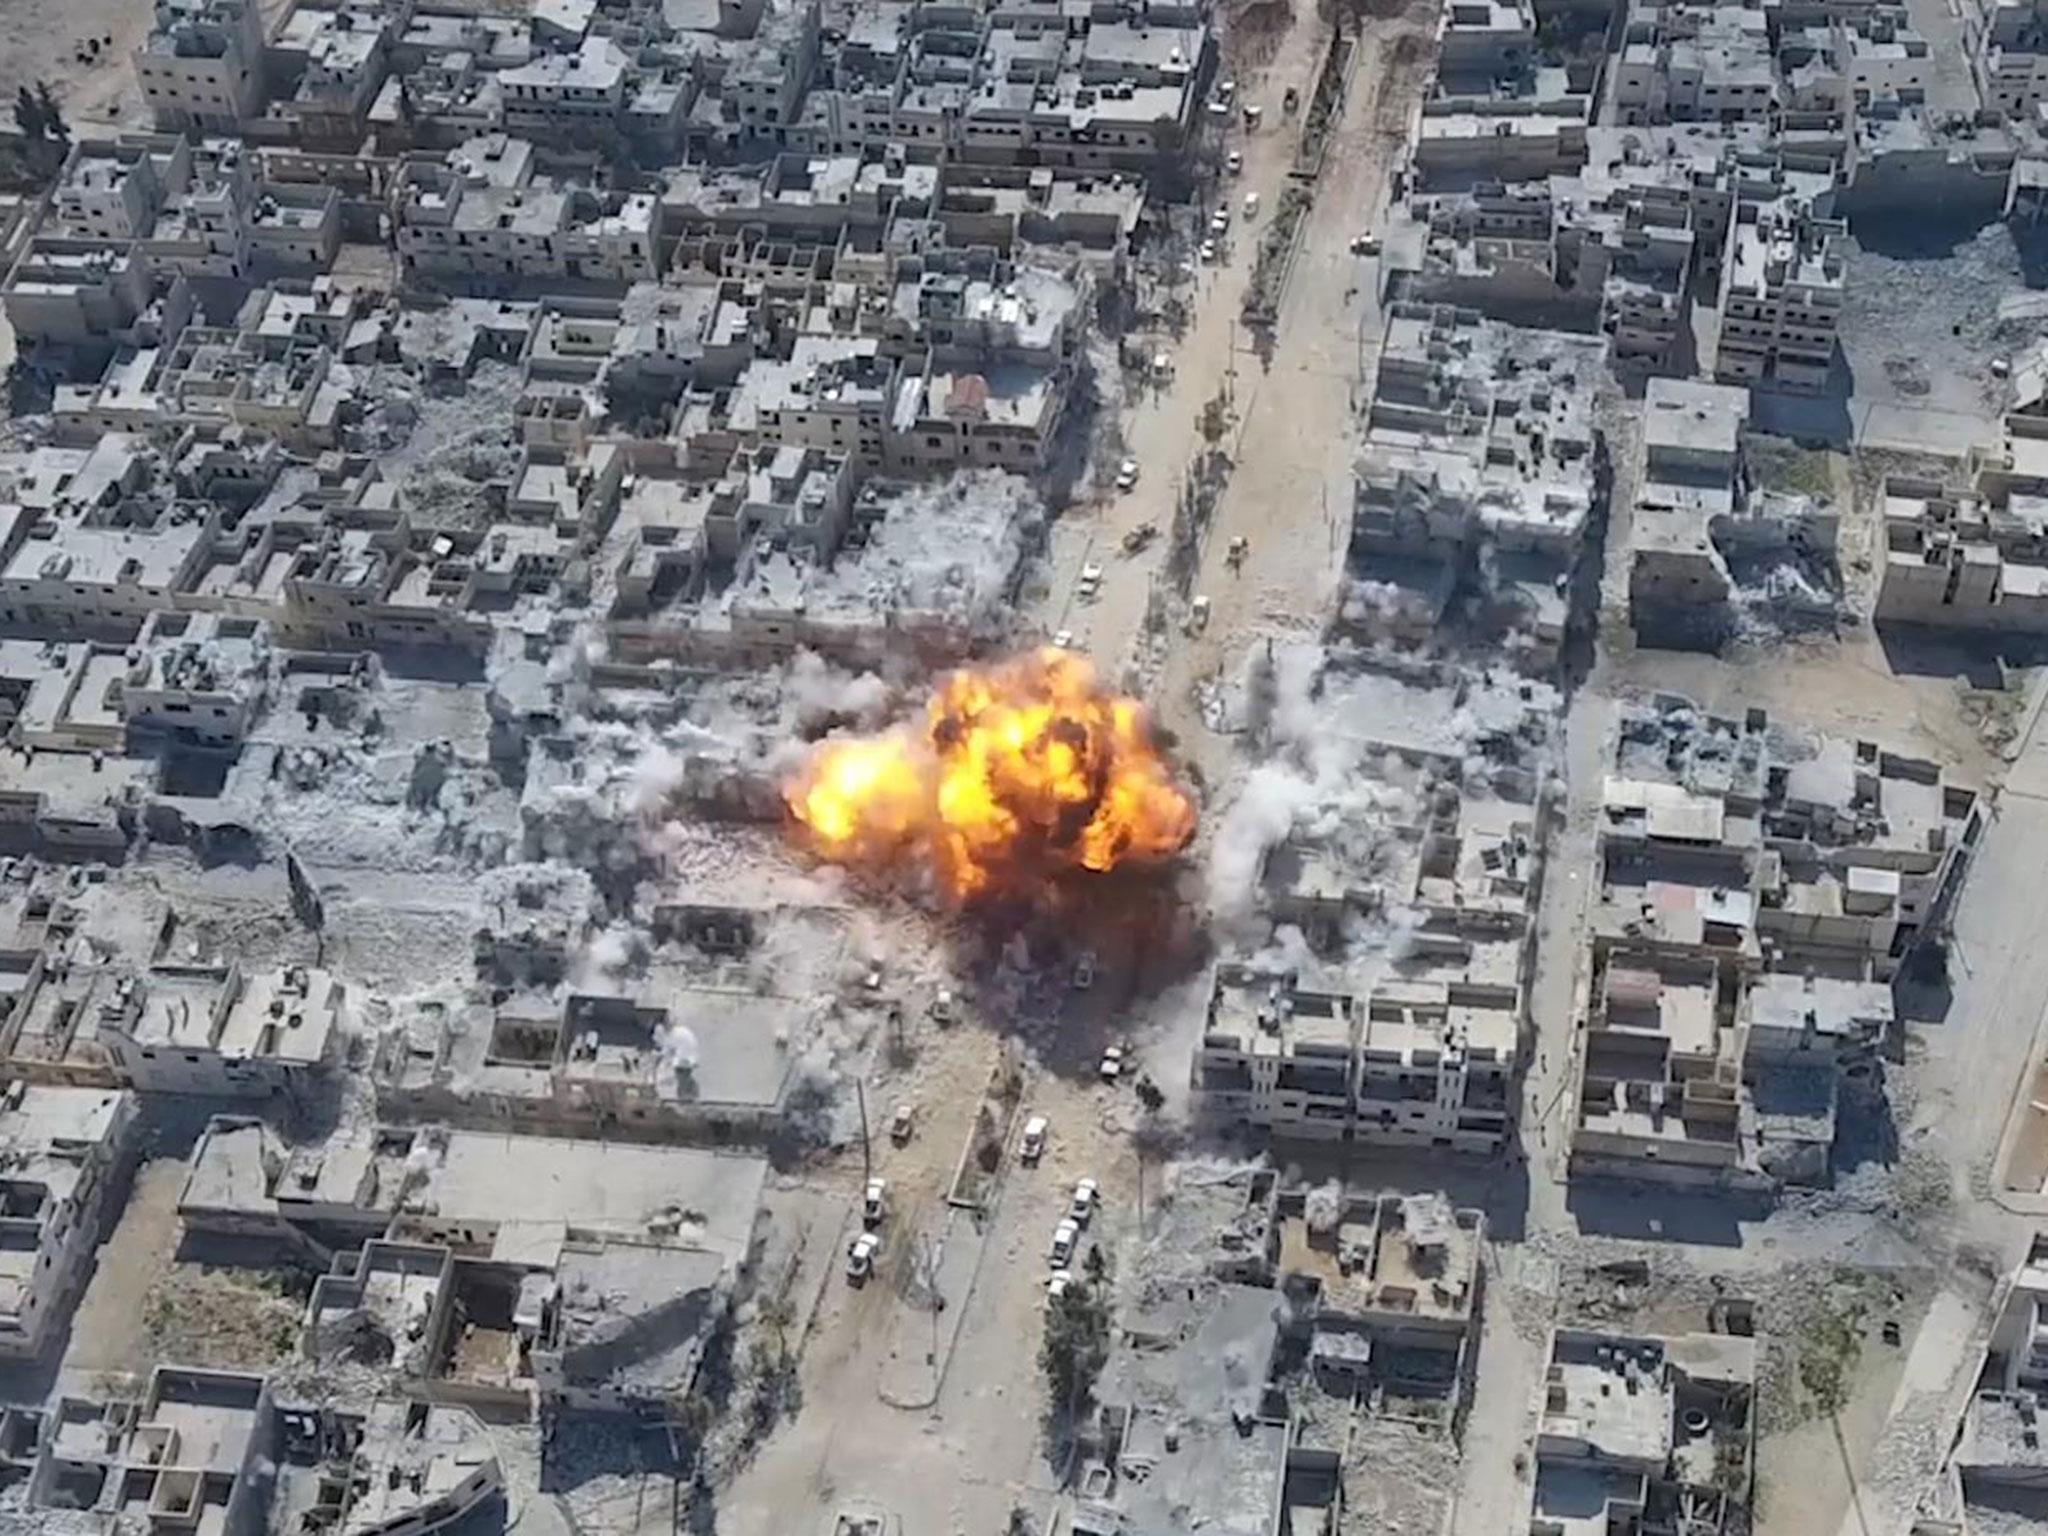fire: (760, 620, 1216, 907)
